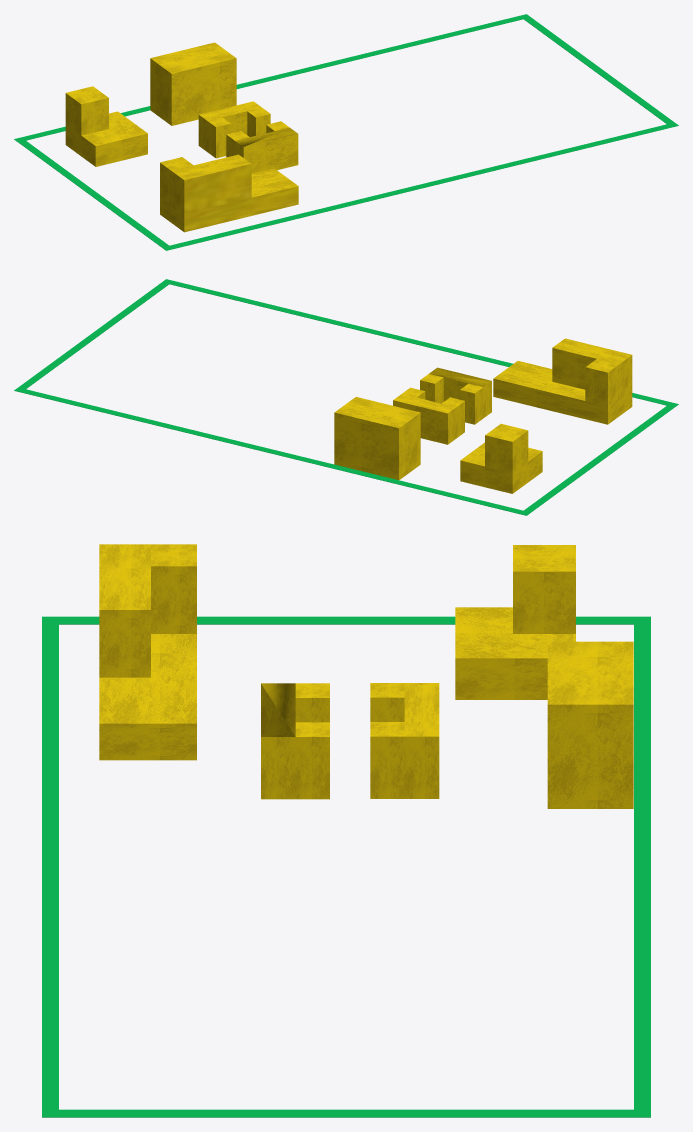
Rendered from competition_field.dae.
3 views of the same model, one above another, from view 1: azimuth 30°, elevation 25°; view 2: azimuth 150°, elevation 25°; view 3: azimuth 270°, elevation 25° (orthographic). The views are drawn at different scales.
Parts seen in each view (by area): view 1: 10, Cubo.005, 09, 03, 06; view 2: 10, Cubo.005, 09, 03, 06; view 3: Cubo.005, 10, 03, 09, 06.
Part boxes in pixels (left/top/right/bottom): 10: left=160, top=154, right=298, bottom=232; Cubo.005: left=14, top=14, right=678, bottom=250; 09: left=150, top=42, right=236, bottom=125; 03: left=198, top=101, right=298, bottom=173; 06: left=65, top=86, right=147, bottom=166; 10: left=493, top=338, right=632, bottom=424; Cubo.005: left=14, top=279, right=678, bottom=515; 09: left=334, top=397, right=420, bottom=480; 03: left=393, top=367, right=491, bottom=444; 06: left=460, top=423, right=542, bottom=493; Cubo.005: left=42, top=616, right=650, bottom=1117; 10: left=99, top=544, right=196, bottom=760; 03: left=261, top=683, right=439, bottom=799; 09: left=547, top=641, right=633, bottom=808; 06: left=455, top=545, right=575, bottom=699.
Bounding box in the file's own units: 2060 × 1060 × 201.
Materials: 2 (1 with a texture image).
